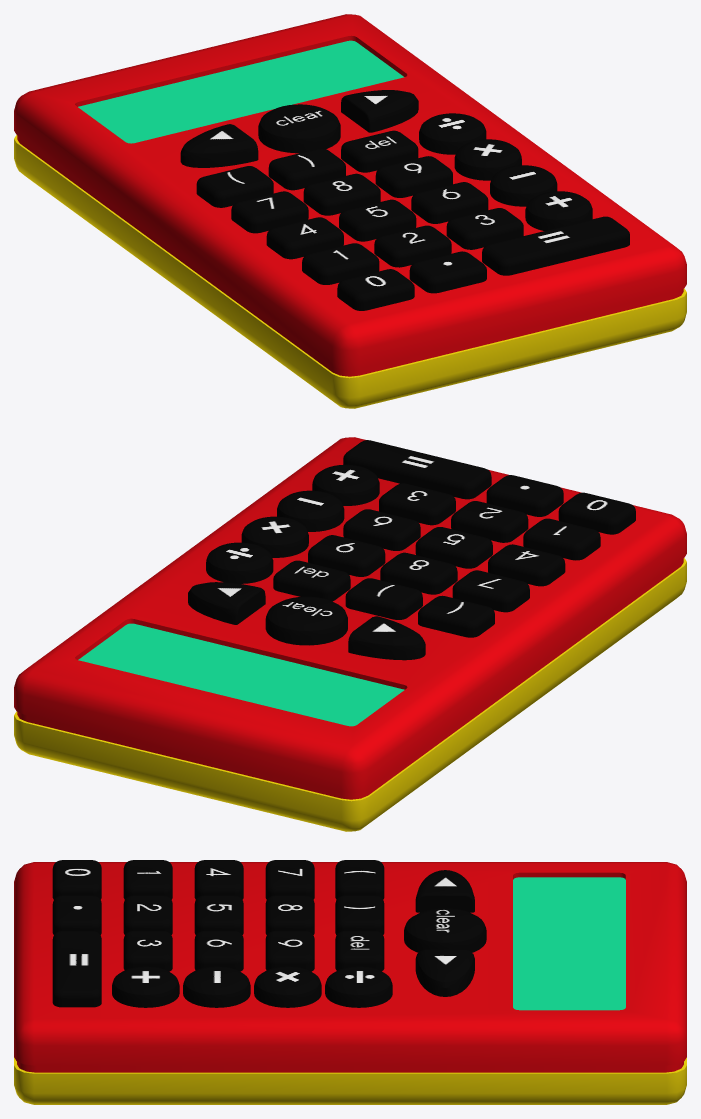
The model's file is calculator.glb.
The picture shows the model from 3 angles, top to bottom: view 1: azimuth 30°, elevation 25°; view 2: azimuth 150°, elevation 25°; view 3: azimuth 270°, elevation 25°; orthographic projection.
Visible parts, largest first — view 1: calculator, display, button-=, button-clear, button-left, button-right, button-dot, button-0, button-8, button-2, button-3, button-5 (+12 smaller); view 2: calculator, display, button-=, button-clear, button-left, button-right, button-), button-(, button-/, button-1, button-4, button-0 (+12 smaller); view 3: calculator, display, button-=, button-clear, button-right, button-*, button--, button-/, button-+, button-left, button-3, button-6 (+12 smaller).
Boxes of the visible parts, x1,y1,x2,y2 form: calculator: [14, 14, 686, 408]; display: [78, 40, 404, 143]; button-=: [482, 216, 629, 275]; button-clear: [258, 104, 340, 153]; button-left: [180, 124, 258, 167]; button-right: [341, 90, 418, 132]; button-dot: [409, 251, 486, 293]; button-0: [337, 269, 414, 310]; button-8: [303, 173, 380, 215]; button-2: [374, 225, 451, 267]; button-3: [446, 208, 523, 249]; button-5: [339, 199, 416, 241]; calculator: [14, 437, 686, 831]; display: [78, 623, 404, 726]; button-=: [343, 440, 491, 499]; button-clear: [265, 596, 347, 645]; button-left: [348, 616, 425, 660]; button-right: [188, 582, 265, 624]; button-): [345, 578, 422, 619]; button-(: [418, 595, 494, 637]; button-/: [206, 542, 273, 583]; button-1: [523, 518, 600, 560]; button-4: [488, 544, 565, 586]; button-0: [558, 492, 635, 534]; calculator: [14, 862, 686, 1104]; display: [513, 877, 625, 1010]; button-=: [52, 930, 101, 1007]; button-clear: [404, 908, 486, 952]; button-right: [415, 949, 474, 996]; button-*: [254, 966, 321, 1007]; button--: [183, 966, 250, 1007]; button-/: [325, 966, 392, 1007]; button-+: [112, 966, 179, 1007]; button-left: [415, 870, 474, 912]; button-3: [123, 930, 172, 971]; button-6: [194, 930, 243, 971].
Size of what is drawn, in the model's own units: 2.24 by 0.6194 by 3.69.
5 materials, 2 textured.
